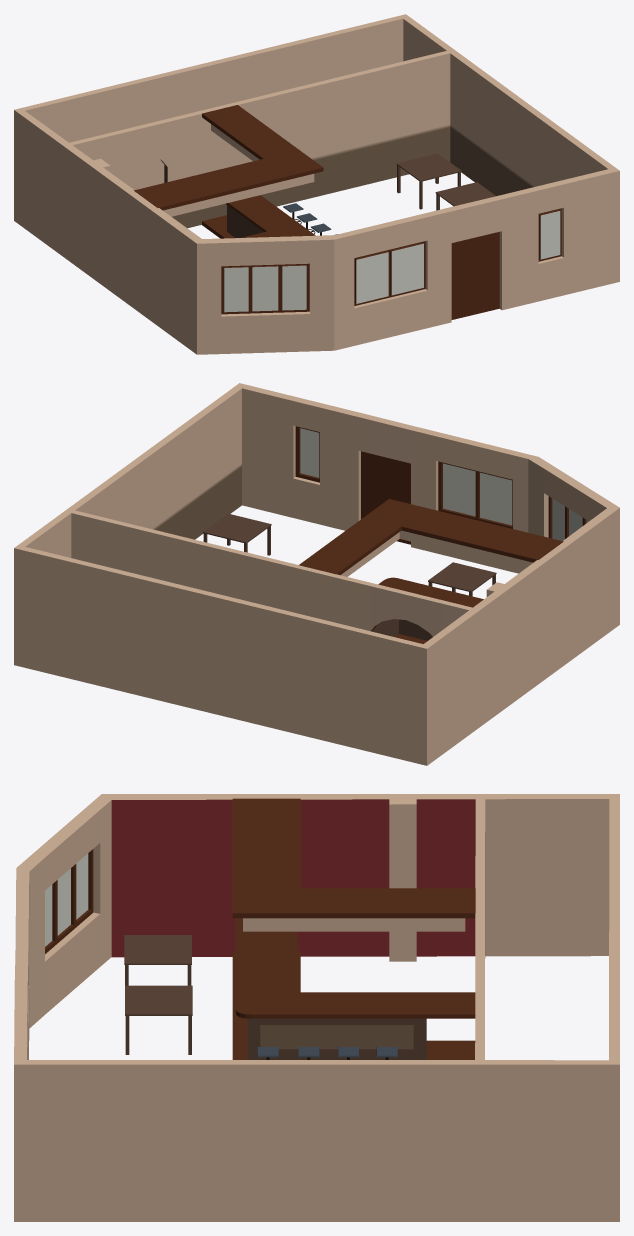
Rendered from Interior.fbx.
3 renders of one model, top to bottom at view 1: azimuth 30°, elevation 25°; view 2: azimuth 150°, elevation 25°; view 3: azimuth 270°, elevation 25°, orthographic. The views are drawn at different scales.
Visible parts, largest first — view 1: Paredes.001; view 2: Paredes.001; view 3: Paredes.001.
Boxes of the visible parts, x1,y1,x2,y2 form: Paredes.001: (14,14,619,354); Paredes.001: (14,383,619,765); Paredes.001: (14,794,619,1221).
Bounding box in the file's own units: 553 × 150 × 523.
